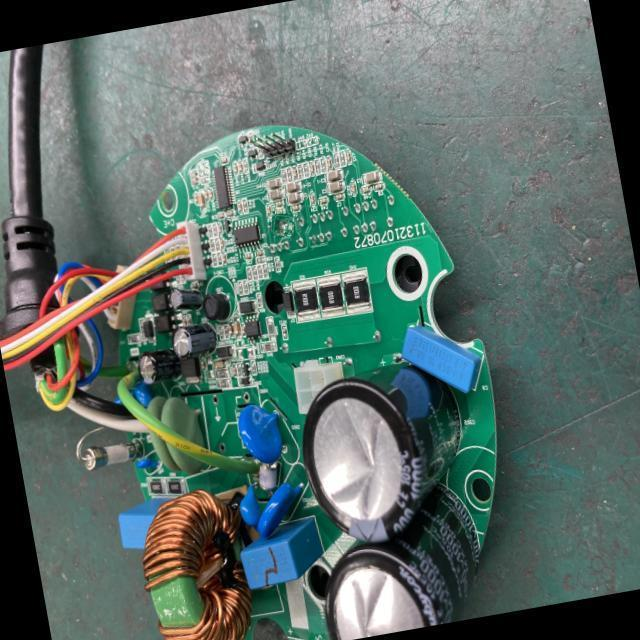damged: (273, 215, 293, 235)
